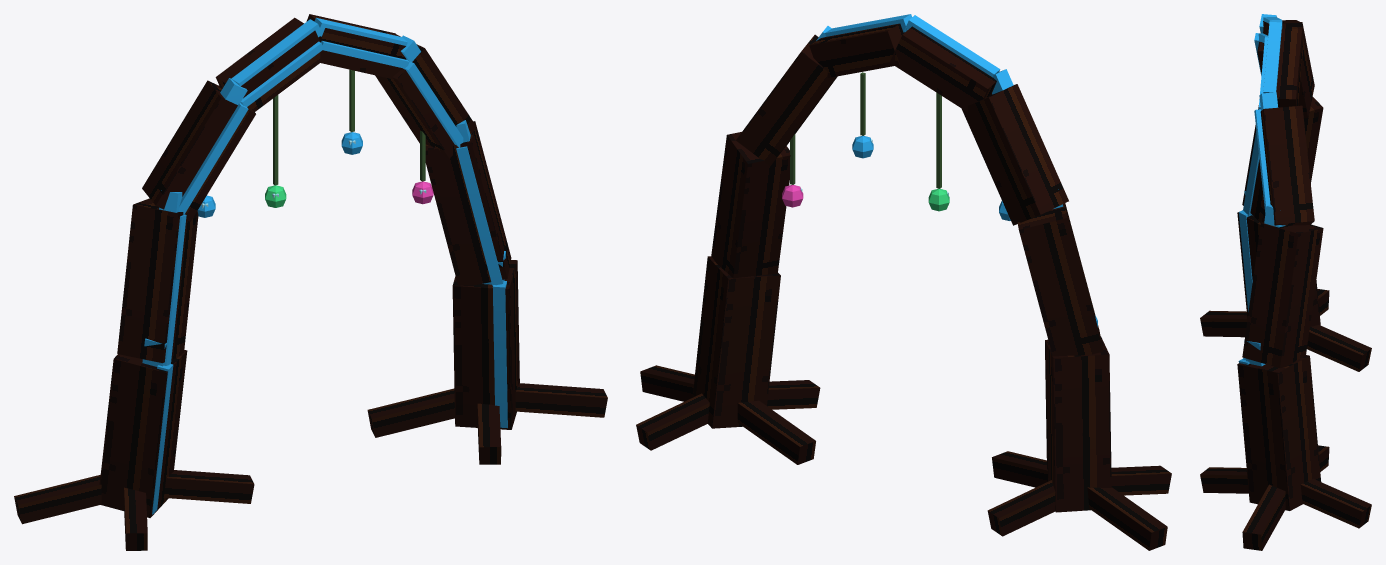
File: glowroot_arch.glb
3 renders of one model, left to right at view 1: azimuth 30°, elevation 25°; view 2: azimuth 150°, elevation 25°; view 3: azimuth 270°, elevation 25°, orthographic. The views are drawn at different scales.
Visible parts, largest first — view 1: glowroot_arch; view 2: glowroot_arch; view 3: glowroot_arch.
Part boxes in pixels (box(x1,y1,x2,y2)): glowroot_arch: box(14, 14, 607, 550); glowroot_arch: box(636, 14, 1171, 550); glowroot_arch: box(1200, 14, 1371, 550).
Bounding box in the file's own units: 4.73 × 3.65 × 1.39.
Materials: 3 (1 with a texture image).
